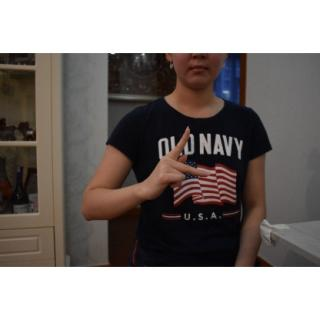DHAA: (134, 121, 214, 206)
